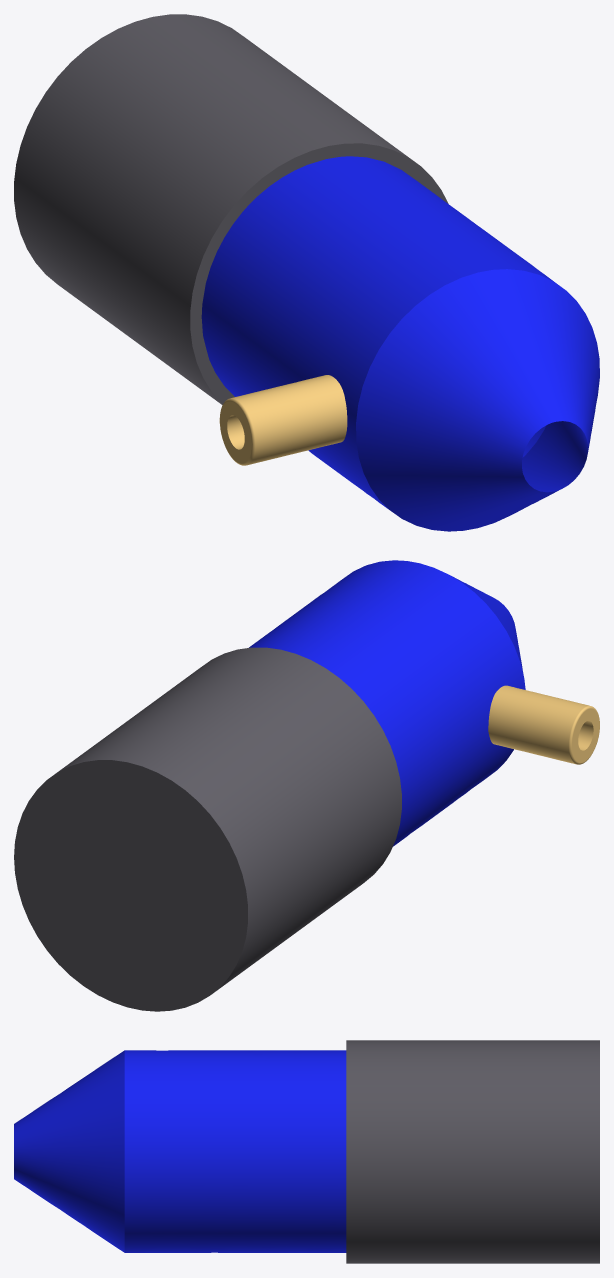
Rendered from head.glb.
3 renders of one model, top to bottom at view 1: azimuth 30°, elevation 25°; view 2: azimuth 150°, elevation 25°; view 3: azimuth 270°, elevation 25°, orthographic. The views are drawn at different scales.
Visible parts, largest first — view 1: Solid6, Body, Solid9; view 2: Body, Solid6, Solid9; view 3: Solid6, Body.
Part boxes in pixels (<box>): Solid6: <box>201,156,599,531</box>; Body: <box>14,14,448,404</box>; Solid9: <box>219,375,347,465</box>; Body: <box>14,647,401,1011</box>; Solid6: <box>249,560,525,846</box>; Solid9: <box>488,685,599,764</box>; Solid6: <box>14,1050,346,1252</box>; Body: <box>346,1040,599,1263</box>.
Size of the model in its own units: 0.0287 by 0.022 by 0.0578.
